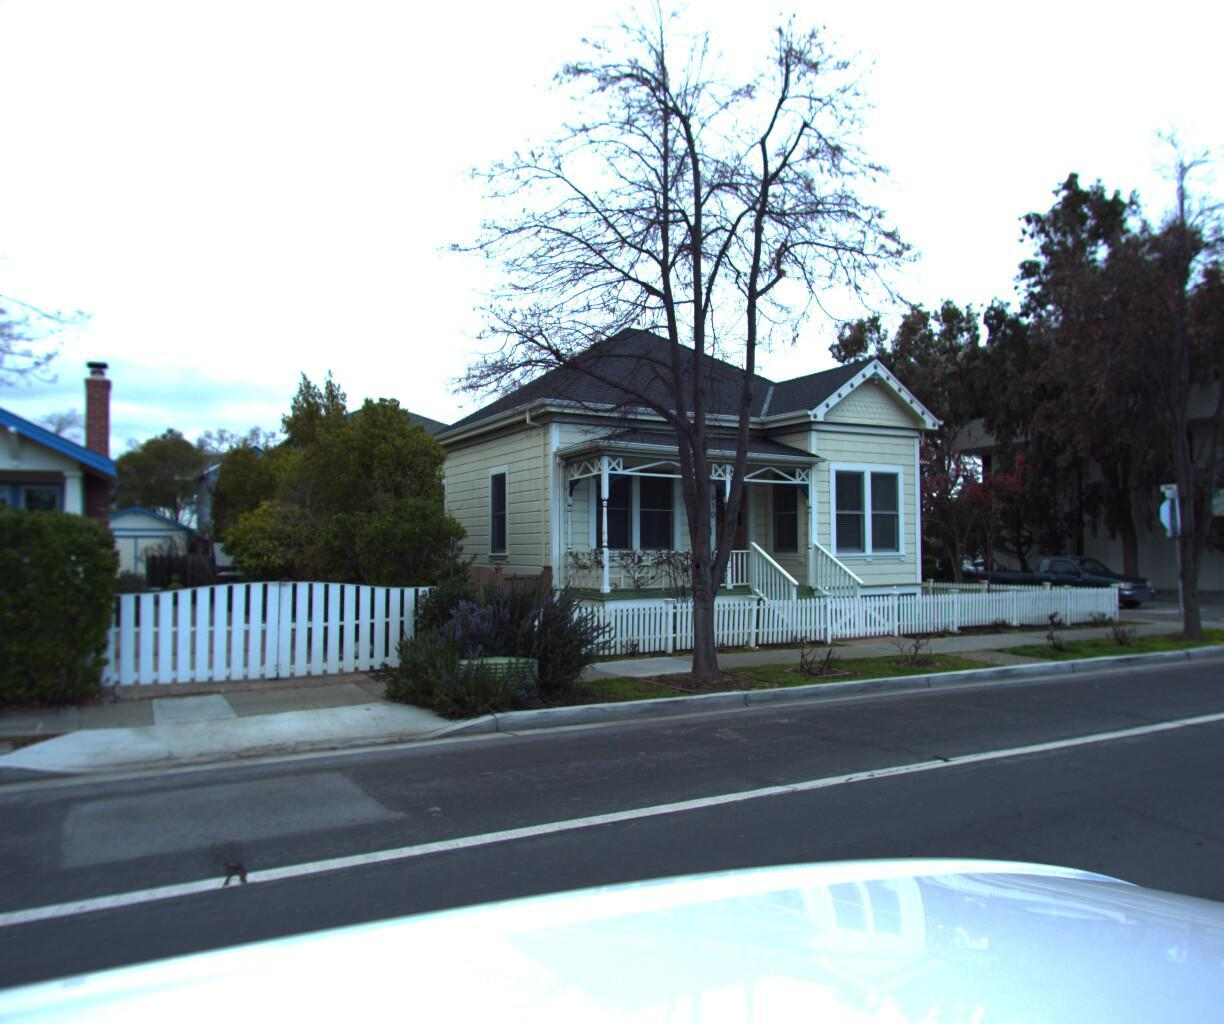car: (967, 551, 1156, 606)
